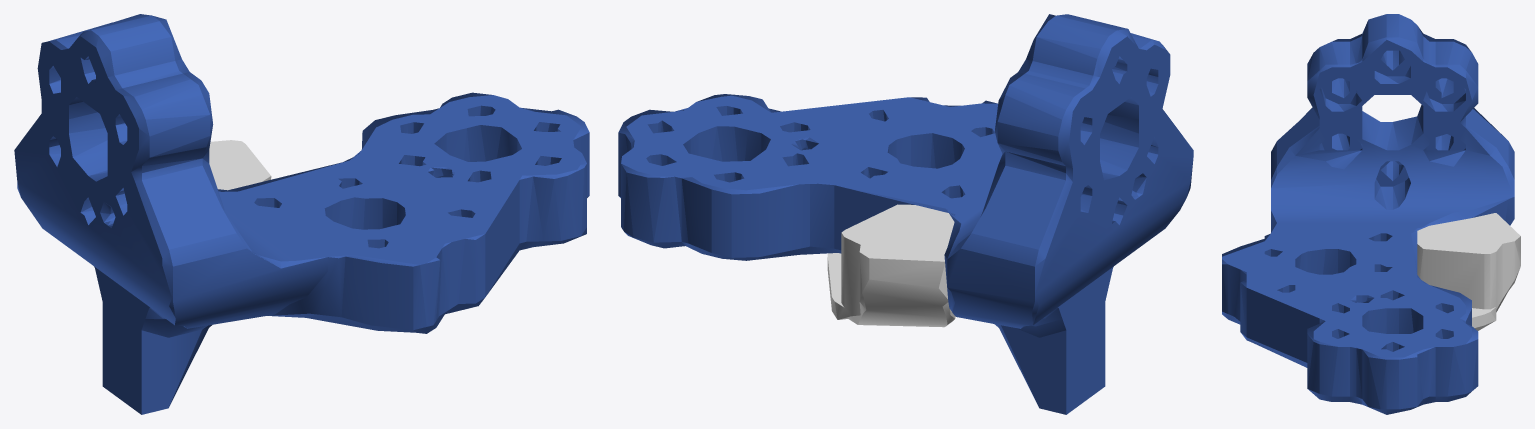
The model's file is left_wrist_pitch.obj.
3 renders of one model, left to right at view 1: azimuth 30°, elevation 25°; view 2: azimuth 150°, elevation 25°; view 3: azimuth 270°, elevation 25°, orthographic. The views are drawn at different scales.
Parts seen in each view (by area): view 1: N16_23_P06_01_Link_Wrist, N16_23_P06_03_Endstop_Hand___20; view 2: N16_23_P06_01_Link_Wrist, N16_23_P06_03_Endstop_Hand___20; view 3: N16_23_P06_01_Link_Wrist, N16_23_P06_03_Endstop_Hand___20.
Part boxes in pixels (x1,y1,x2,y2): N16_23_P06_01_Link_Wrist: [14, 14, 589, 414]; N16_23_P06_03_Endstop_Hand___20: [209, 140, 271, 190]; N16_23_P06_01_Link_Wrist: [618, 14, 1193, 414]; N16_23_P06_03_Endstop_Hand___20: [827, 204, 955, 327]; N16_23_P06_01_Link_Wrist: [1222, 14, 1514, 414]; N16_23_P06_03_Endstop_Hand___20: [1417, 213, 1520, 330].
Size of the model in its own units: 0.073 by 0.053 by 0.049.
